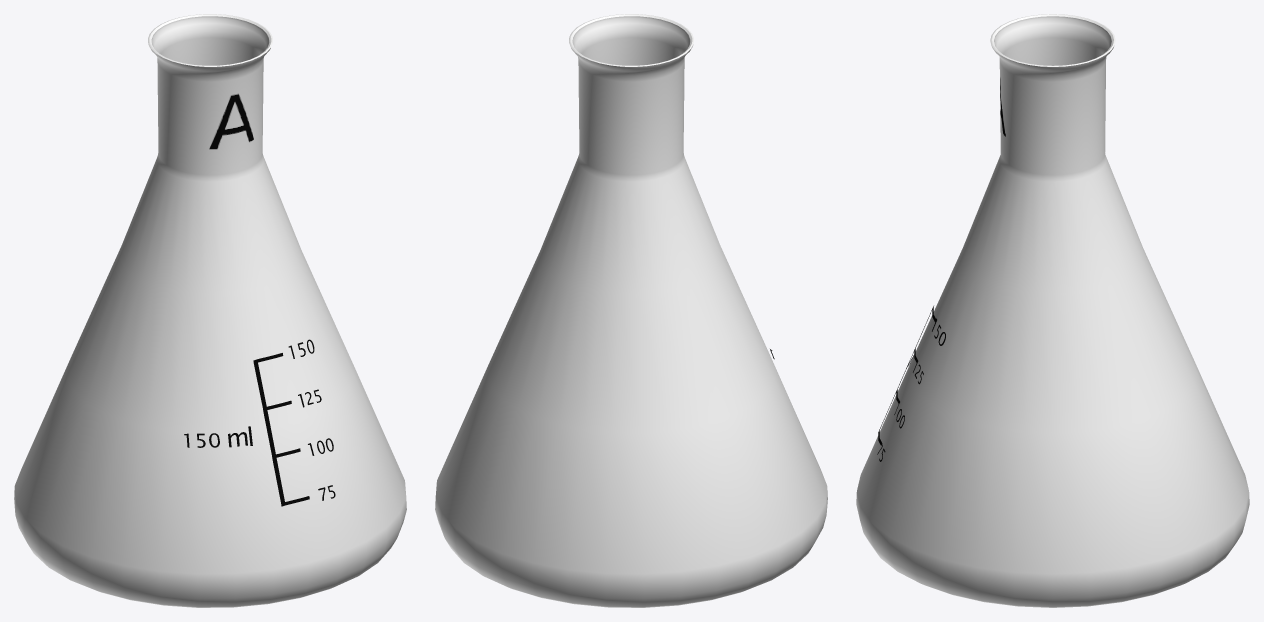
File: conical_flaskA.fbx
3 views of the same model, side by side, from view 1: azimuth 30°, elevation 25°; view 2: azimuth 150°, elevation 25°; view 3: azimuth 270°, elevation 25° (orthographic).
Visible parts, largest first — view 1: conical beaker, sticker, Plane.003; view 2: conical beaker; view 3: conical beaker, sticker.
Boxes of the visible parts, x1,y1,x2,y2 form: conical beaker: (14,14,406,607); sticker: (187,61,263,174); Plane.003: (253,353,309,506); conical beaker: (435,14,827,607); conical beaker: (856,14,1249,607); sticker: (999,59,1023,171).
Size of the model in its own units: 12.72 by 17.6 by 12.72.
4 materials, 2 textured.
